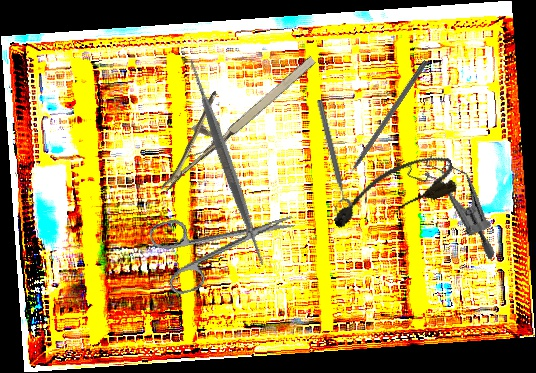Cannula: (324, 148, 462, 236)
Fixation Ring: (307, 98, 354, 217)
Hook Surgical: (338, 58, 429, 187)
Iris Scissors: (147, 187, 305, 299)
Needle Holder: (134, 30, 320, 194)
Spatula Surgical: (112, 47, 342, 278)
Speculum: (385, 145, 523, 262)
